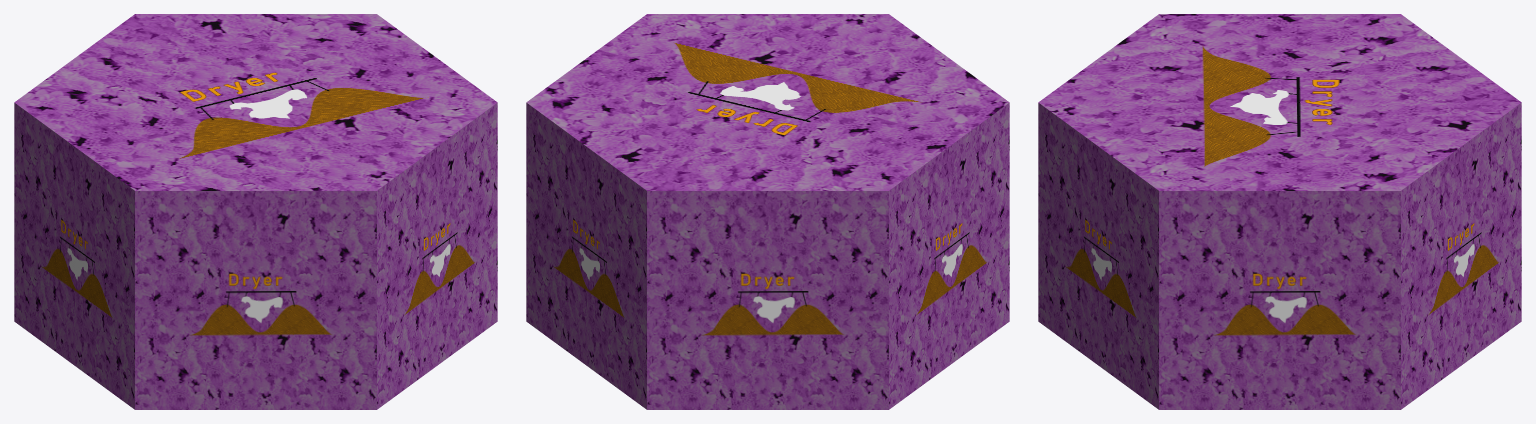
Rendered from Tile_Dryer.fbx.
3 views of the same model, side by side, from view 1: azimuth 30°, elevation 25°; view 2: azimuth 150°, elevation 25°; view 3: azimuth 270°, elevation 25° (orthographic).
Visible parts, largest first — view 1: Tile_Dryer; view 2: Tile_Dryer; view 3: Tile_Dryer.
Part boxes in pixels (bbox=[...]): Tile_Dryer: bbox=[14, 14, 497, 409]; Tile_Dryer: bbox=[526, 14, 1009, 409]; Tile_Dryer: bbox=[1038, 14, 1521, 409].
Size of the model in its own units: 1.73 by 1 by 2.
